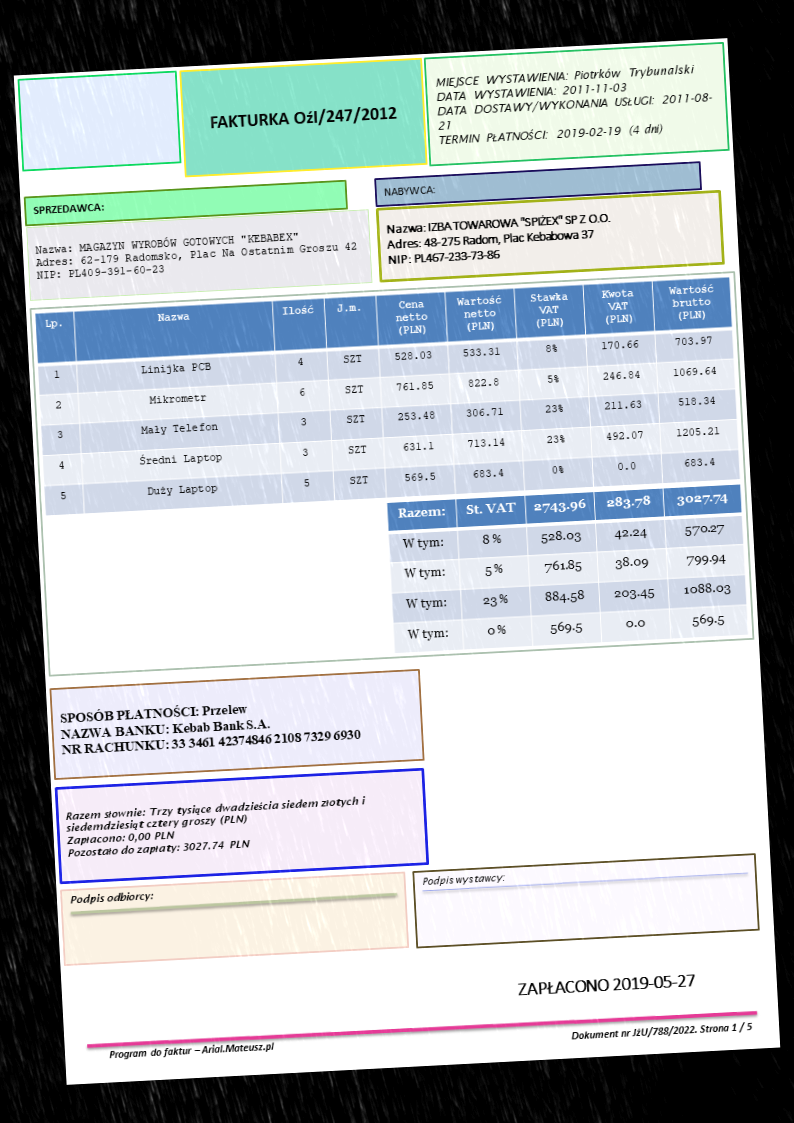Table: (33, 274, 741, 516), (386, 484, 749, 654)
TextBox: (431, 60, 715, 148), (63, 793, 371, 860), (58, 693, 362, 758), (32, 227, 359, 283), (383, 211, 613, 267), (207, 103, 399, 133), (514, 969, 699, 998), (568, 1019, 754, 1043), (104, 1039, 278, 1062), (66, 888, 154, 907), (421, 871, 506, 888), (30, 200, 106, 219), (380, 181, 437, 201)
